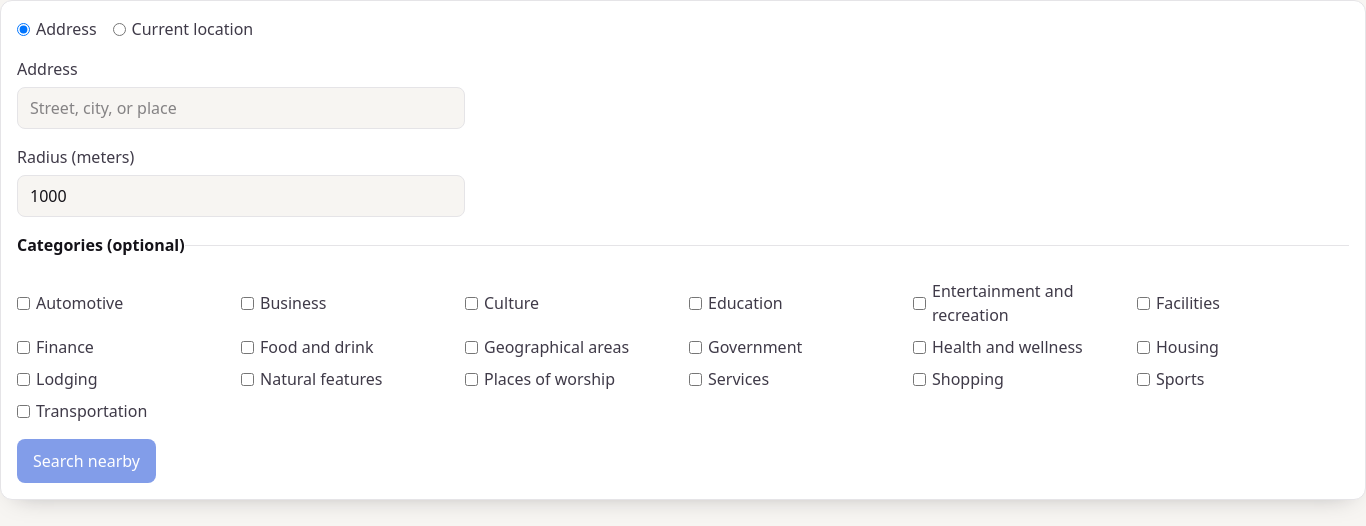
Test: SearchForm location-mode address overlay › shows Your Location and disables the field when current location is selected
Type "12 Main St" into the field labelled "Address".
click(241, 108); type("12 Main St")  # box x1=17 y1=87 x2=465 y2=129
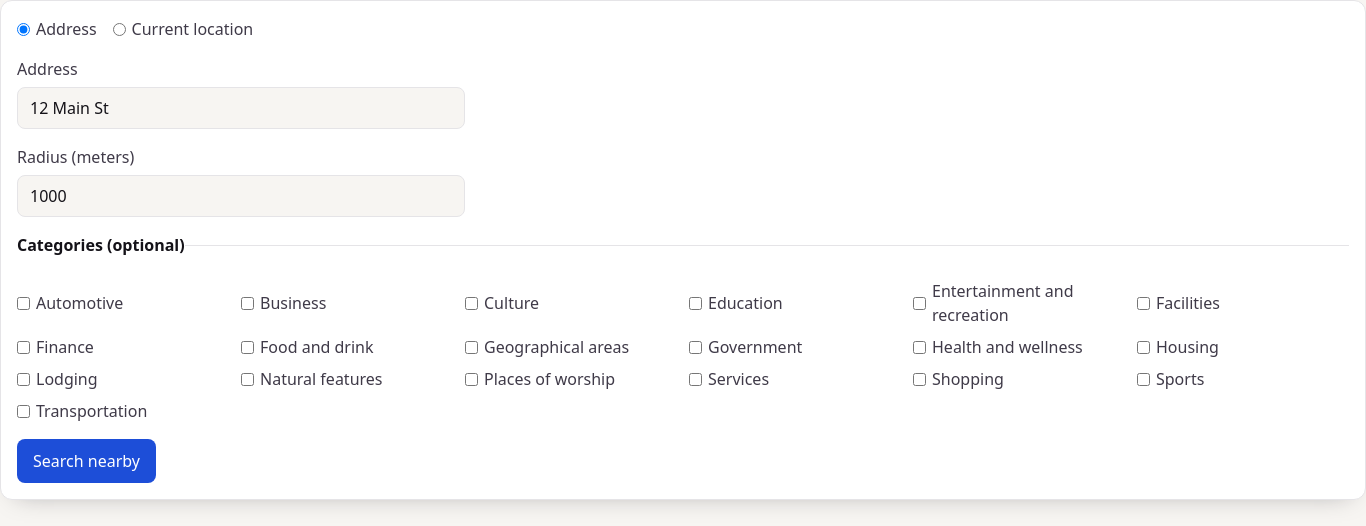
Click the radio button labelled "Current location".
click(119, 29)  # box x1=112 y1=22 x2=126 y2=36
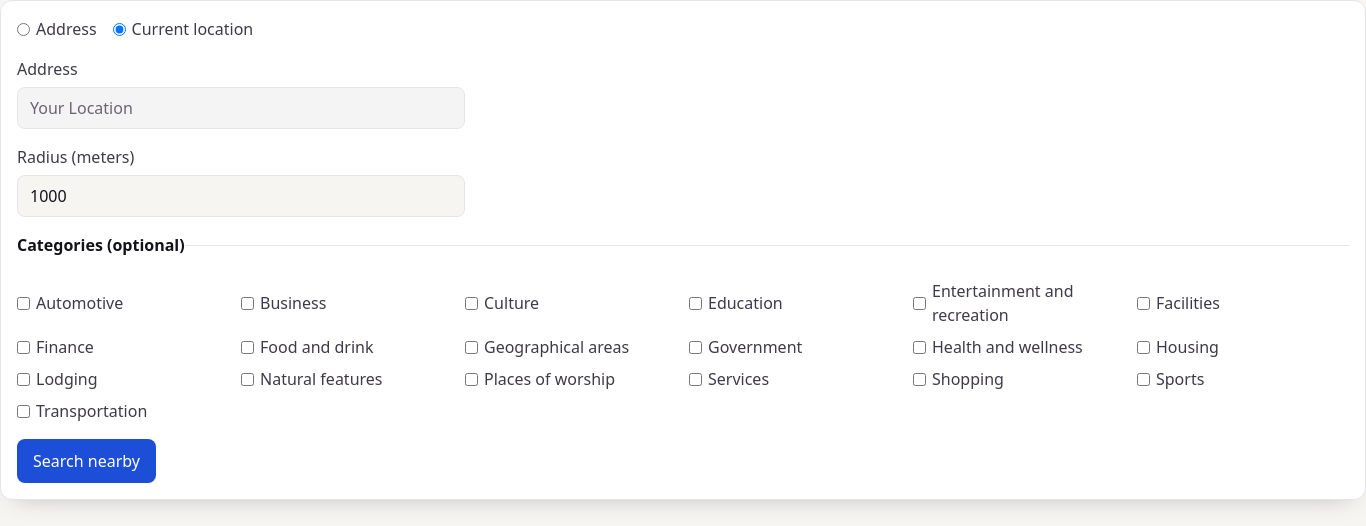
Check: the field labelled "Address" holds "Your Location", box x1=17 y1=87 x2=465 y2=129
Check: the field labelled "Address" is disabled, box x1=17 y1=87 x2=465 y2=129
